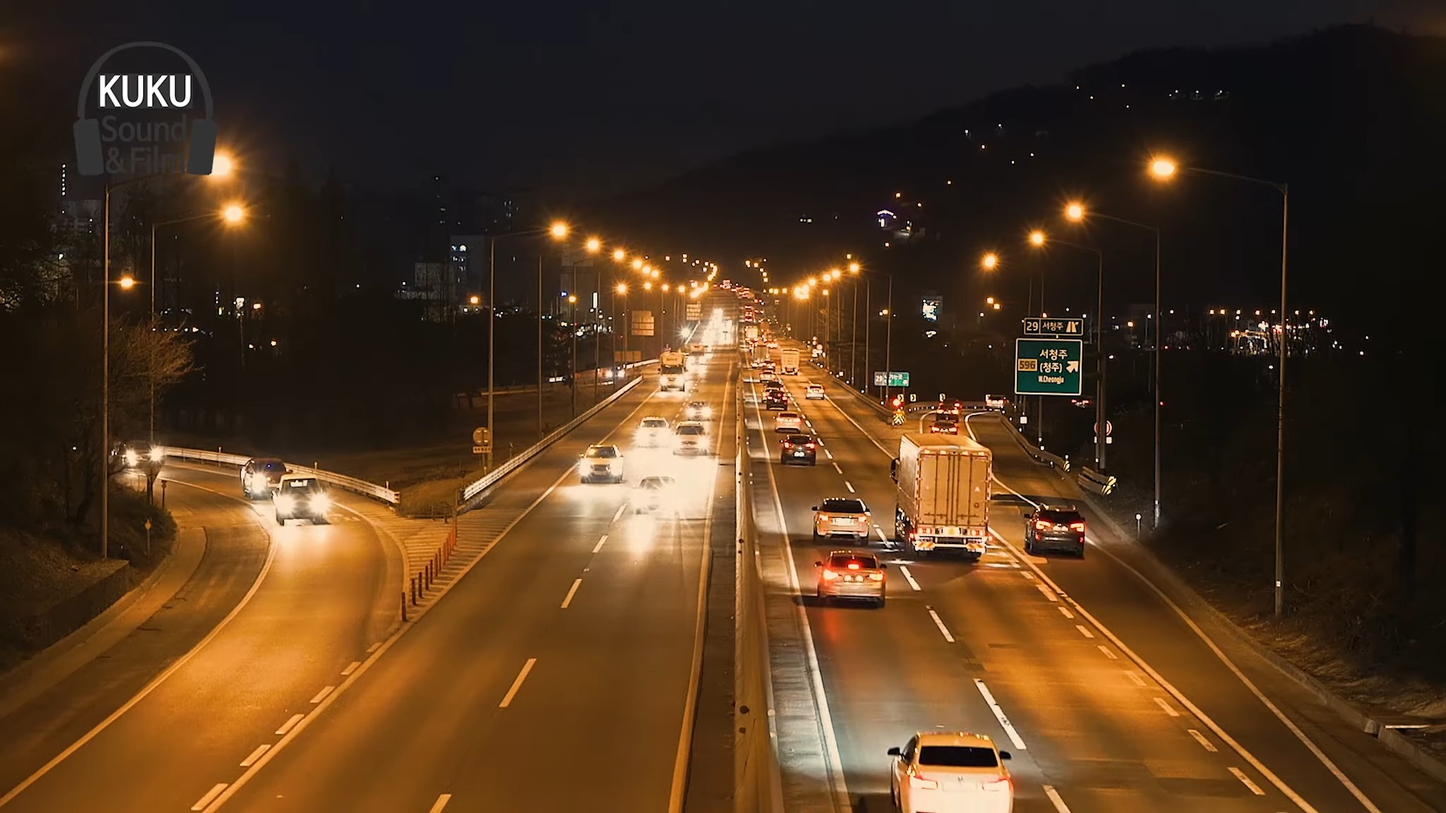car: (885, 727, 1017, 813), (812, 547, 893, 607), (809, 500, 873, 549), (1029, 501, 1090, 552)
truck: (890, 427, 994, 572)
